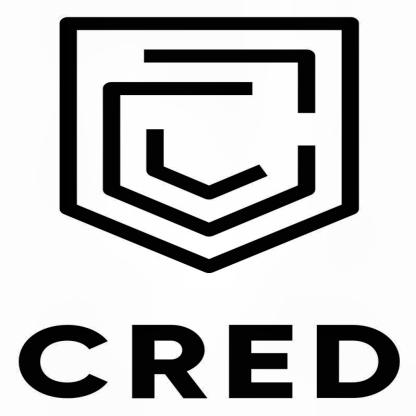CRED: (53, 11, 367, 274), (19, 320, 403, 401)
